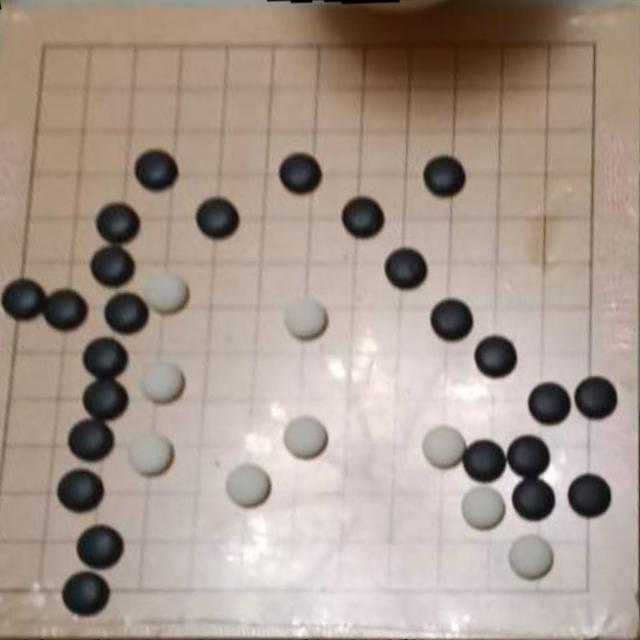blackstone: (62, 571, 110, 615), (57, 469, 104, 512), (76, 525, 123, 568), (567, 474, 612, 518), (68, 419, 114, 462), (574, 376, 617, 420), (462, 439, 506, 482), (512, 478, 556, 521), (83, 379, 129, 420), (528, 383, 571, 425), (508, 435, 550, 478), (44, 289, 88, 330), (2, 279, 46, 320), (423, 156, 467, 197), (91, 246, 136, 286), (104, 293, 148, 333), (196, 198, 240, 238), (83, 338, 128, 377), (475, 336, 517, 377), (431, 300, 474, 340), (385, 248, 428, 288), (135, 150, 178, 190), (96, 203, 140, 242), (342, 197, 384, 237), (279, 153, 322, 192)
whitestone: (508, 534, 554, 579), (226, 463, 270, 508), (143, 270, 189, 313), (462, 485, 506, 529), (128, 432, 172, 476), (422, 425, 467, 468), (284, 416, 328, 459), (285, 298, 327, 338), (140, 362, 182, 402)
